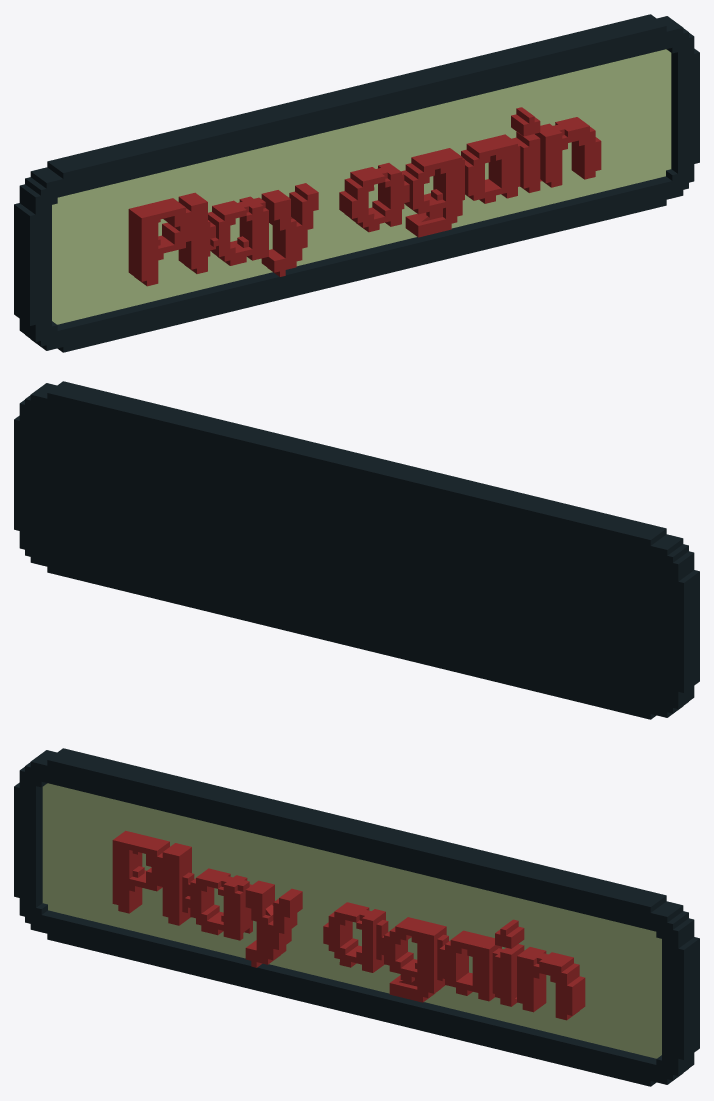
Rendered from button_again.fbx.
The picture shows the model from 3 angles, top to bottom: view 1: azimuth 30°, elevation 25°; view 2: azimuth 150°, elevation 25°; view 3: azimuth 330°, elevation 25°; orthographic projection.
Parts seen in each view (by area): view 1: OUT; view 2: OUT; view 3: OUT.
Part boxes in pixels (x1,y1,x2,y2): OUT: [14, 14, 699, 352]; OUT: [14, 381, 699, 719]; OUT: [14, 748, 699, 1086].
Bounding box in the file's own units: 6.05 × 1.55 × 0.3502.
